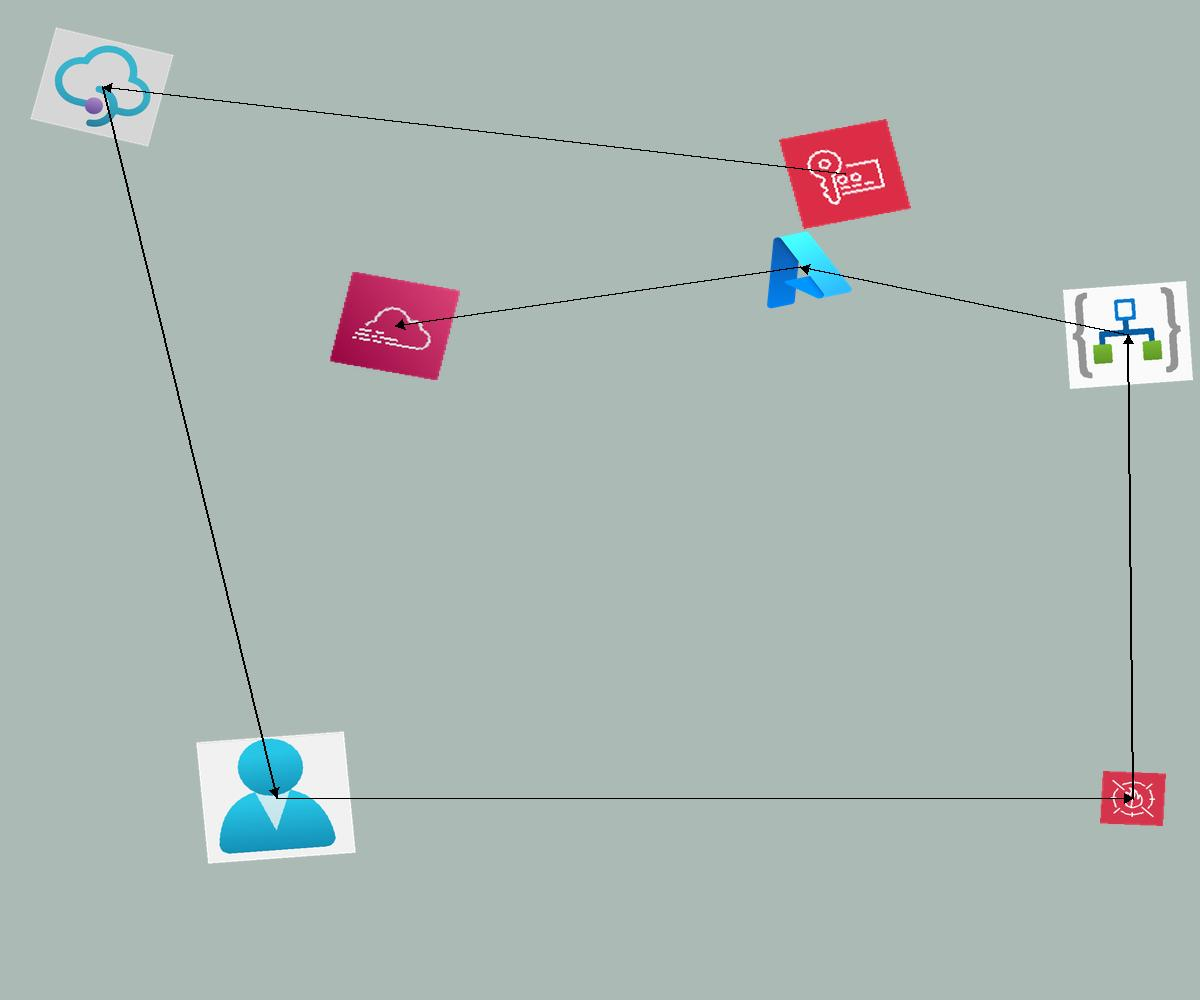AWS-CloudTrail: (329, 271, 461, 381)
AWS-Key-Management-Service: (779, 119, 911, 229)
AWS-WAF: (1100, 771, 1166, 826)
Azure_api_gateway: (30, 27, 174, 147)
Azure_integration-204-Logic-Apps: (1063, 281, 1193, 389)
Azure_services: (743, 220, 858, 315)
Azure_users: (196, 731, 356, 864)
